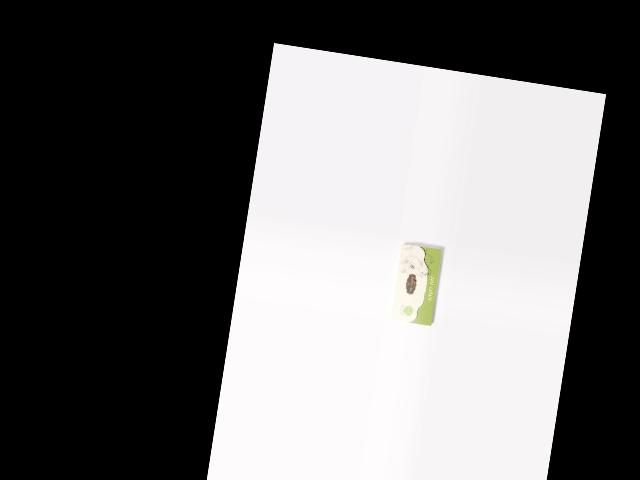chocolate: (389, 242, 444, 327)
